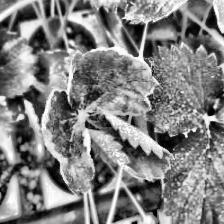Powdery Mildew Leaf: (83, 111, 176, 183), (67, 46, 160, 116), (40, 89, 96, 197)
